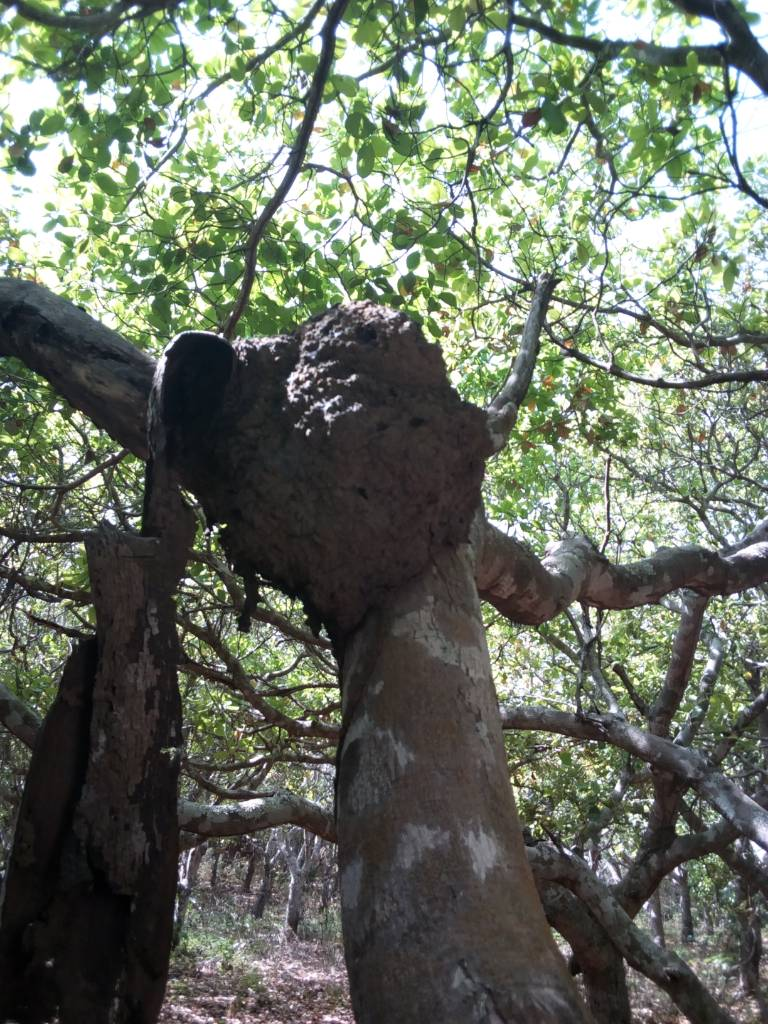Termites: (249, 310, 479, 602)
